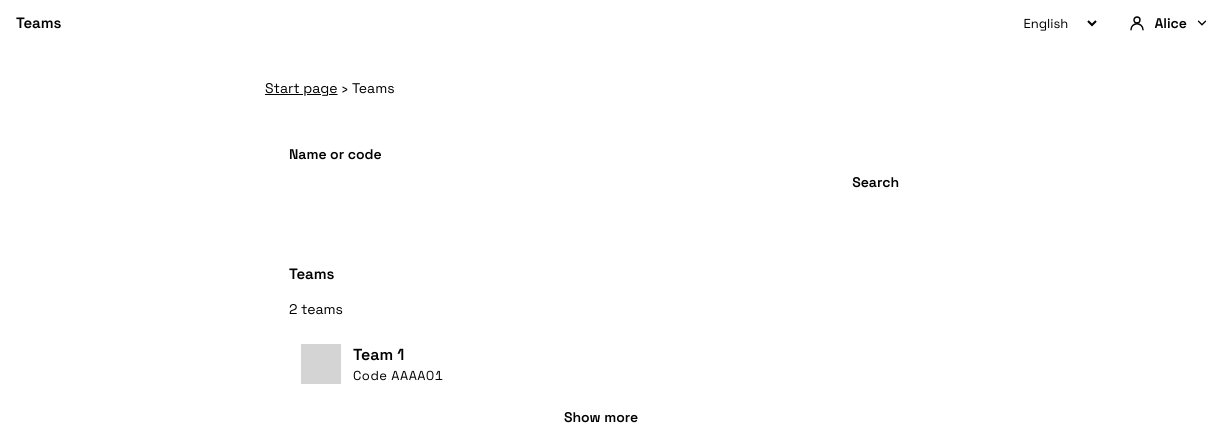
Test: team overview page › shows more teams page by page
Step 1. Click the button "Show more" → coordinates (601, 417), box 550,408 -> 652,426
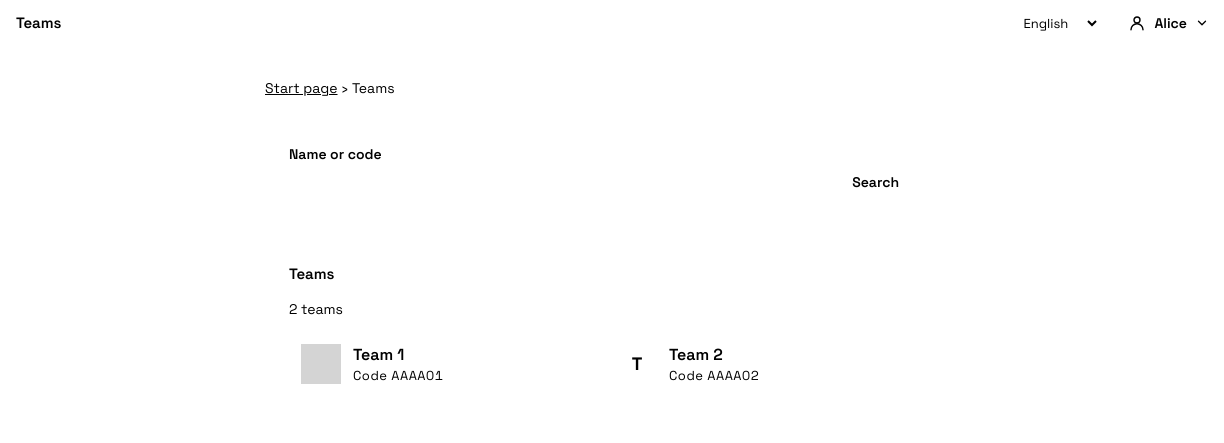
Result: the button "Show more" is gone
